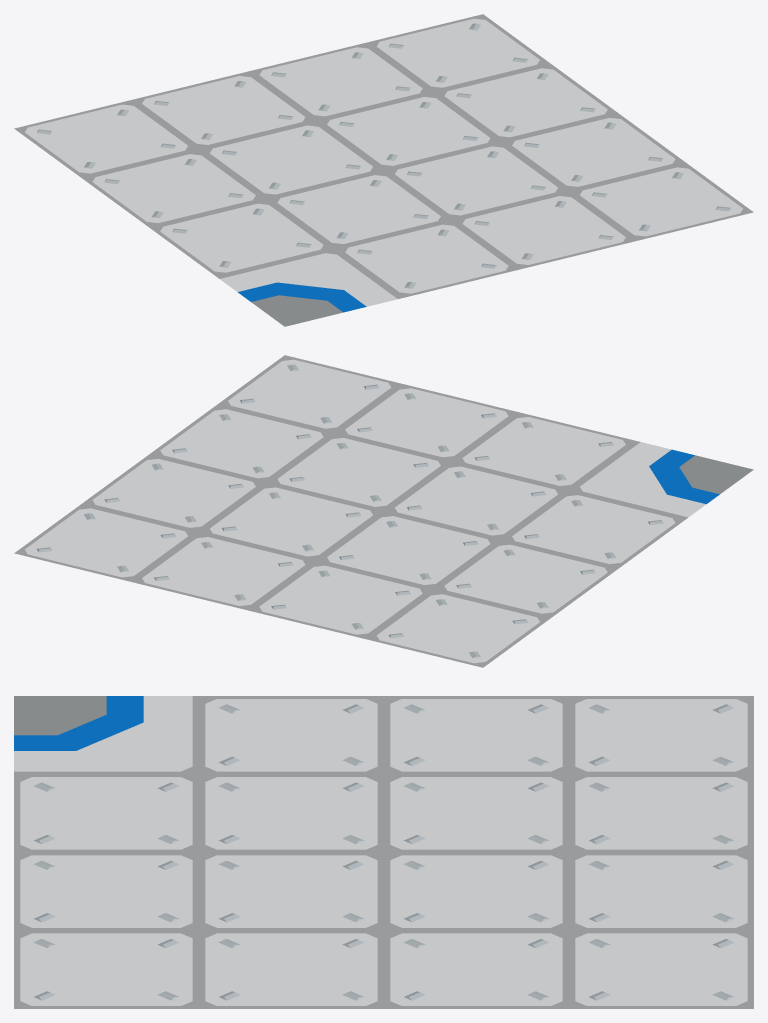
File: Floor_type_A_019.glb
3 renders of one model, top to bottom at view 1: azimuth 30°, elevation 25°; view 2: azimuth 150°, elevation 25°; view 3: azimuth 270°, elevation 25°, orthographic. The views are drawn at different scales.
Visible parts, largest first — view 1: Floor_type_A_019; view 2: Floor_type_A_019; view 3: Floor_type_A_019.
Part boxes in pixels (x1,y1,x2,y2): Floor_type_A_019: [14, 14, 753, 326]; Floor_type_A_019: [14, 355, 753, 667]; Floor_type_A_019: [14, 696, 753, 1008].
Size of the model in its own units: 4 by 0.008 by 4.
Materials: 2 (2 with a texture image).
